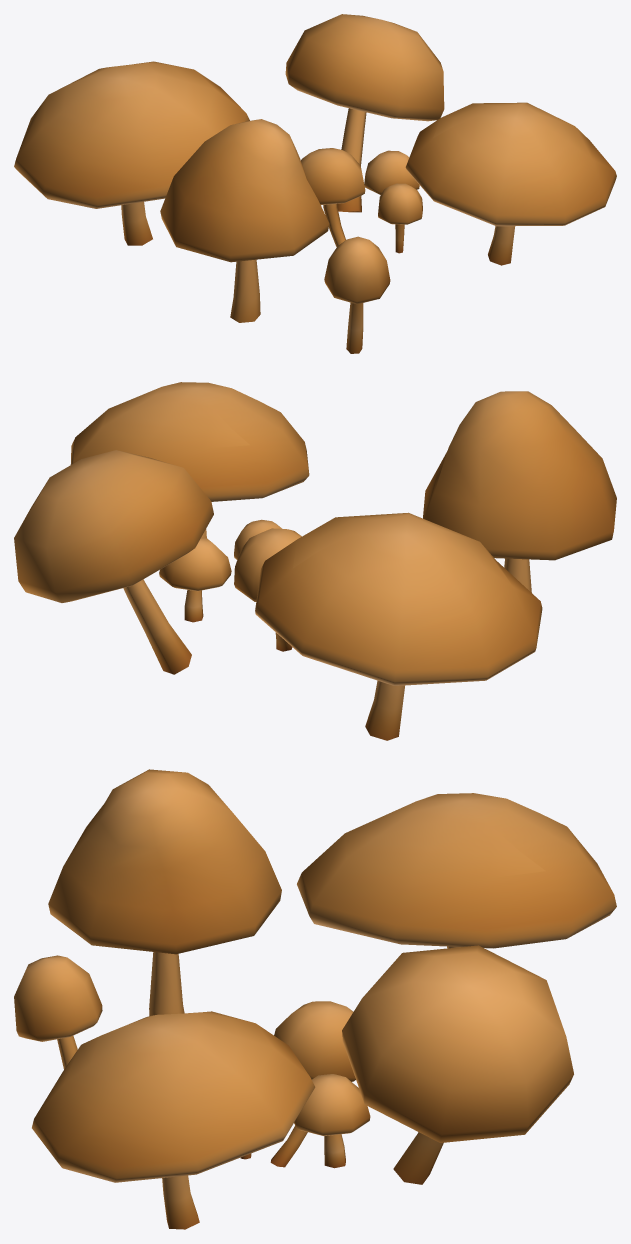
The model's file is SM_Plant_EnokiMushroom_Lv2.fbx.
3 views of the same model, one above another, from view 1: azimuth 30°, elevation 25°; view 2: azimuth 150°, elevation 25°; view 3: azimuth 270°, elevation 25° (orthographic). The views are drawn at different scales.
Parts seen in each view (by area): view 1: SM_Plant_EnokiMushroom_Lv2; view 2: SM_Plant_EnokiMushroom_Lv2; view 3: SM_Plant_EnokiMushroom_Lv2.
Boxes of the visible parts, x1,y1,x2,y2 form: SM_Plant_EnokiMushroom_Lv2: (14, 14, 616, 353); SM_Plant_EnokiMushroom_Lv2: (14, 382, 616, 740); SM_Plant_EnokiMushroom_Lv2: (14, 769, 616, 1229).
Bounding box in the file's own units: 61.51 × 28.63 × 50.37.
